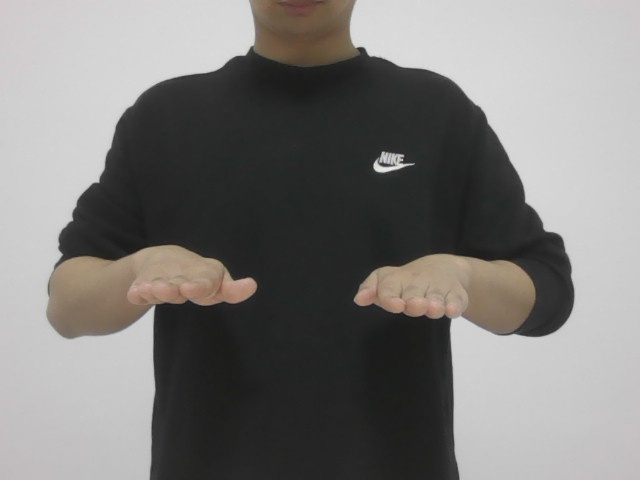flat: (127, 231, 470, 337)
